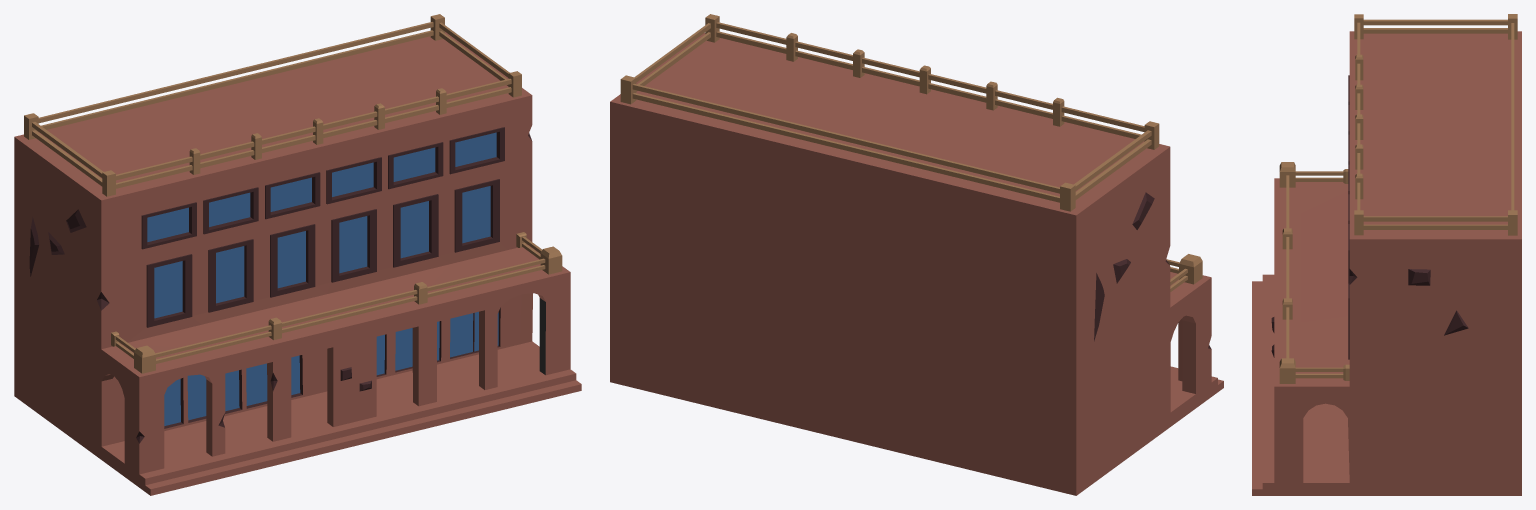
The model's file is RATUSHAA.fbx.
The picture shows the model from 3 angles, left to right: view 1: azimuth 30°, elevation 25°; view 2: azimuth 150°, elevation 25°; view 3: azimuth 270°, elevation 25°; orthographic projection. The views are drawn at different scales.
Visible parts, largest first — view 1: Cube; view 2: Cube; view 3: Cube.
Boxes of the visible parts, x1=… form: Cube: x1=14, y1=14, x2=581, y2=495; Cube: x1=610, y1=14, x2=1223, y2=495; Cube: x1=1252, y1=14, x2=1521, y2=495.
Bounding box in the file's own units: 1675 × 1033 × 904.
